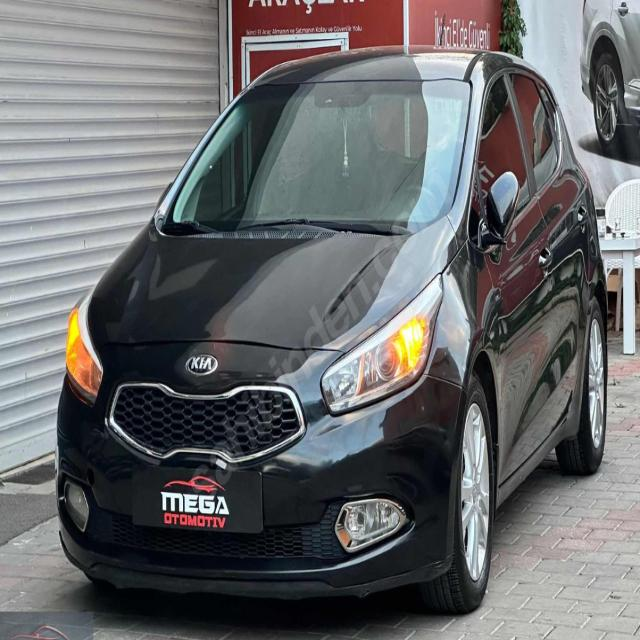kia: (183, 351, 222, 379)
